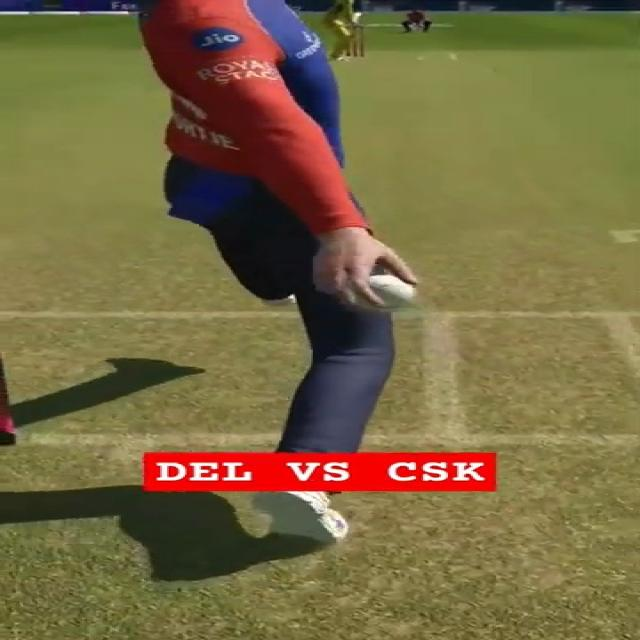ball: (370, 274, 416, 307), (356, 294, 370, 307)
